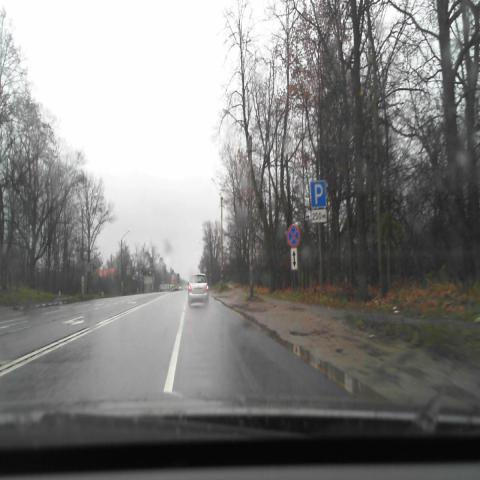6_4: (310, 181, 327, 207)
